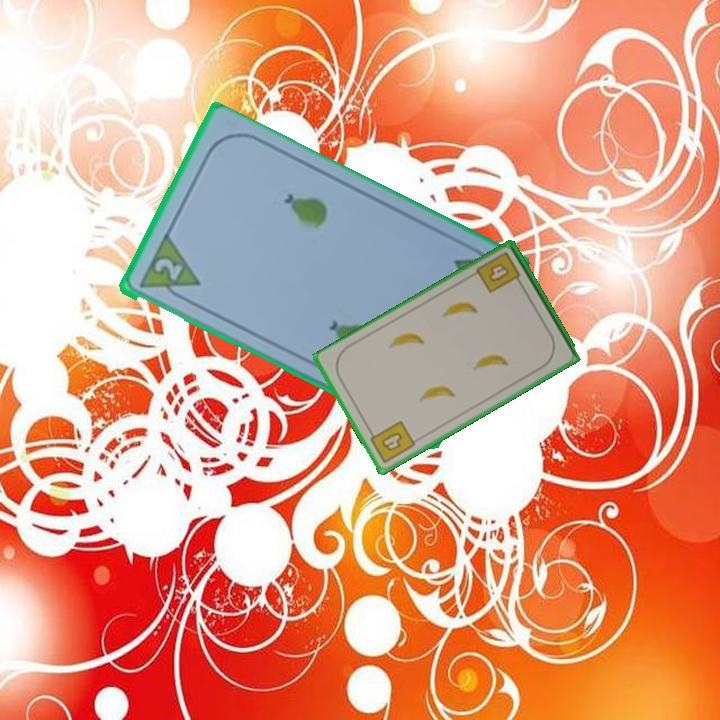2p: (150, 254, 185, 284)
4b: (365, 417, 418, 467), (473, 248, 525, 296)
